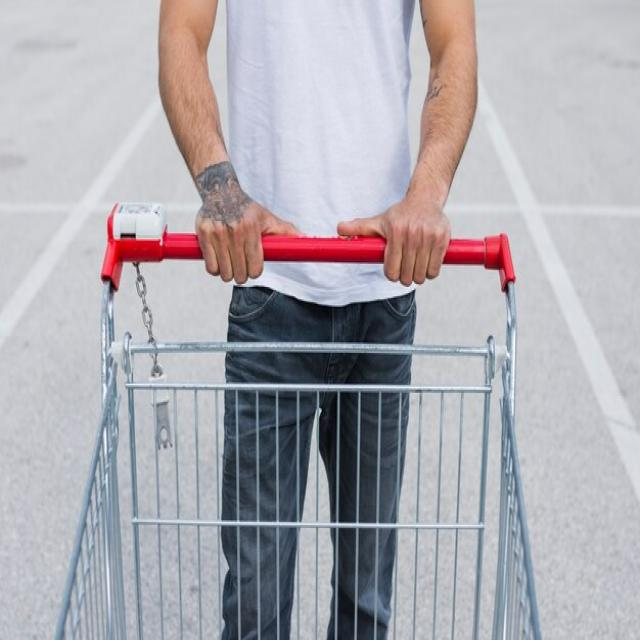Person: (157, 0, 477, 640)
